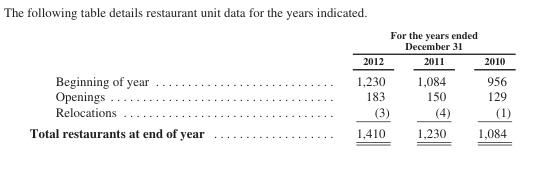table: (28, 28, 510, 139)
table column: (28, 28, 279, 139), (279, 28, 402, 139), (402, 28, 463, 139), (463, 28, 510, 139)
table column header: (28, 28, 510, 69)
table row: (28, 28, 510, 52), (28, 69, 510, 88), (28, 103, 510, 121), (28, 121, 510, 139), (28, 52, 510, 69), (28, 88, 510, 103)
table spanning cell: (279, 28, 510, 52)
